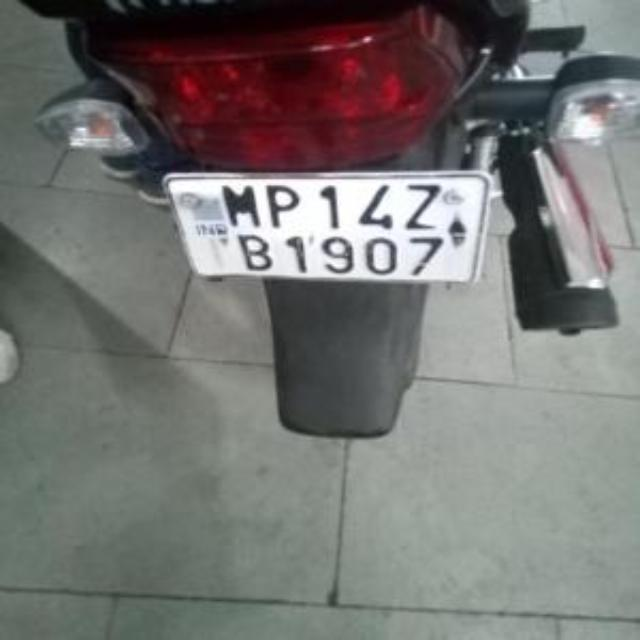License Plate: (178, 177, 484, 282)
